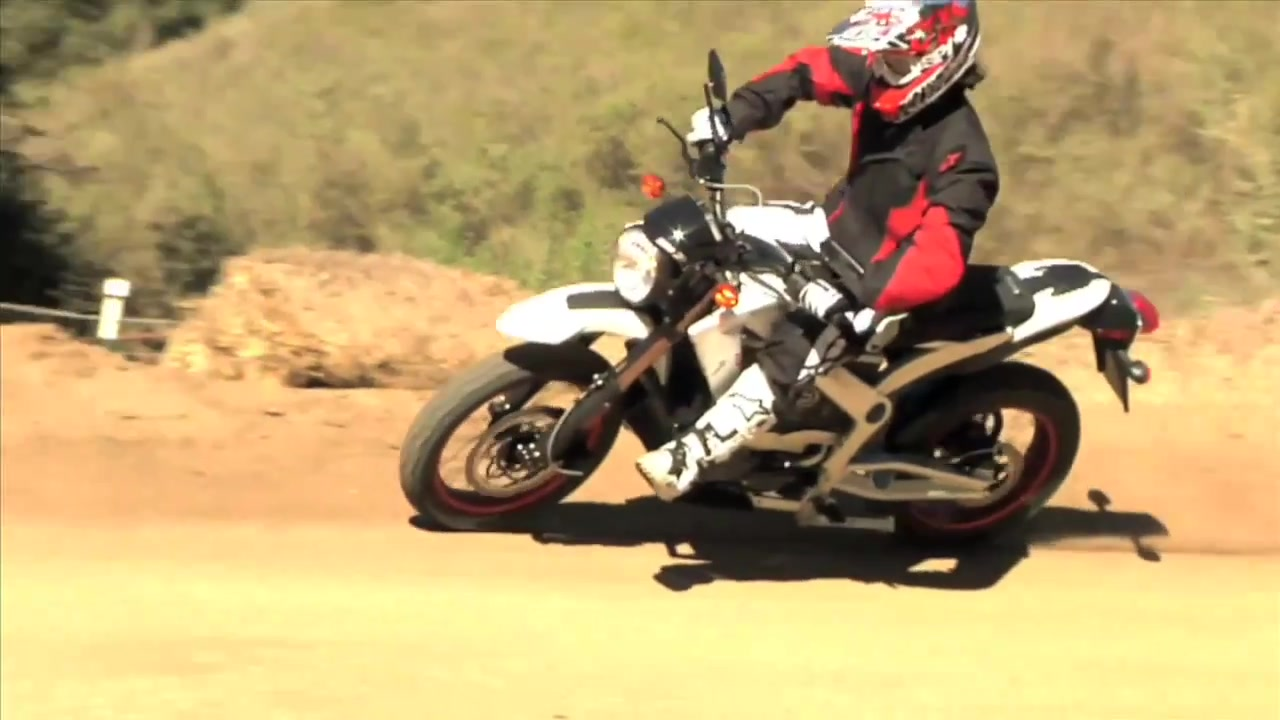motorbike: (398, 49, 1165, 531)
